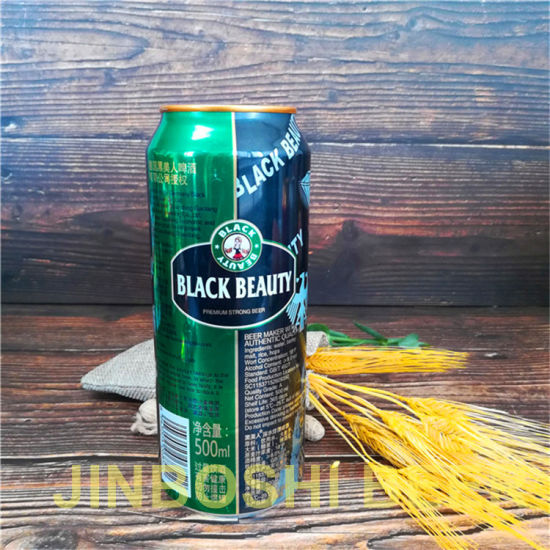beer can: (145, 103, 304, 521)
